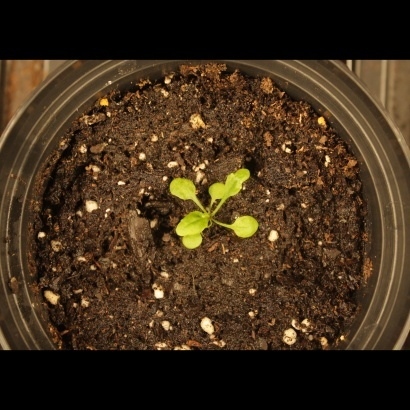leaf: (171, 210, 211, 238), (222, 167, 252, 202), (166, 176, 202, 203), (231, 213, 261, 240), (203, 178, 229, 202), (181, 230, 204, 253)
